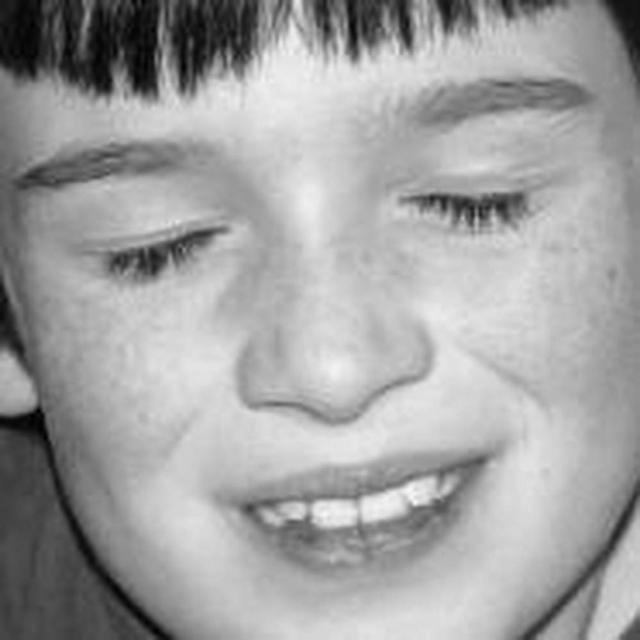real: (4, 3, 640, 640), (28, 165, 586, 299)
